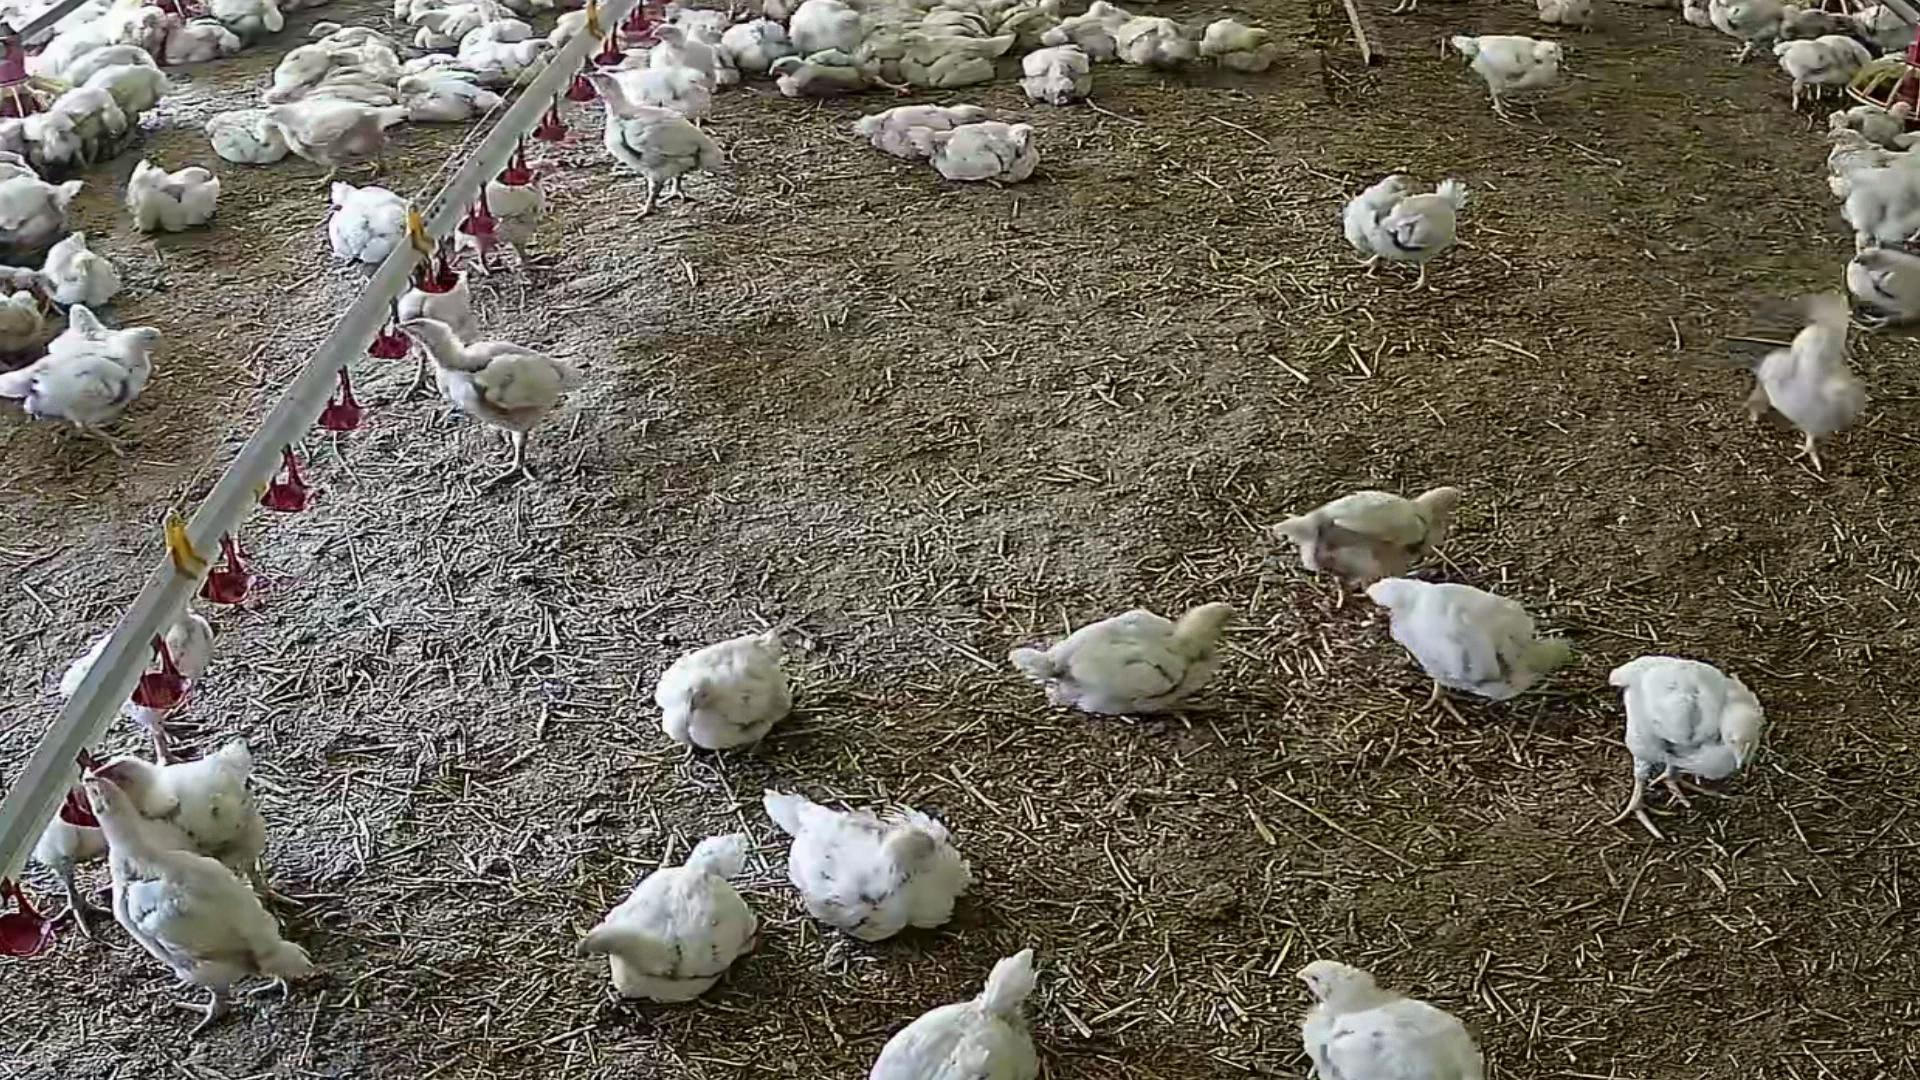poussin: (73, 775, 330, 1034), (762, 782, 967, 947), (397, 306, 563, 501), (102, 738, 293, 906), (1364, 572, 1575, 723), (579, 833, 757, 1005), (1602, 649, 1759, 843), (1013, 608, 1238, 729), (862, 948, 1044, 1080), (59, 603, 208, 762), (579, 69, 728, 222), (1273, 481, 1457, 603), (1298, 960, 1482, 1080), (1754, 302, 1873, 465), (651, 630, 790, 749), (33, 742, 116, 939), (33, 340, 160, 450), (451, 160, 550, 282), (1360, 182, 1458, 297), (400, 269, 476, 410), (1447, 33, 1568, 119), (266, 102, 404, 174), (906, 120, 1048, 187), (1832, 141, 1920, 249), (326, 174, 418, 277), (605, 55, 717, 131), (120, 165, 243, 233), (33, 235, 148, 306), (862, 98, 985, 158), (895, 33, 1015, 91), (1842, 247, 1920, 334), (186, 99, 282, 165), (767, 49, 877, 103), (1014, 38, 1097, 108), (642, 20, 721, 87), (40, 86, 131, 144), (872, 17, 980, 66), (0, 183, 79, 248), (1345, 170, 1393, 276), (1822, 124, 1902, 186), (1712, 0, 1787, 65), (47, 46, 170, 86), (1197, 20, 1283, 71), (158, 11, 243, 61), (720, 15, 786, 76), (63, 71, 170, 109), (1067, 9, 1142, 62), (400, 79, 505, 116), (462, 37, 553, 79), (273, 38, 334, 100), (59, 297, 123, 353), (208, 0, 287, 45), (790, 4, 869, 49), (1816, 42, 1870, 105), (1116, 21, 1187, 66), (40, 38, 123, 76), (0, 286, 50, 348), (1778, 36, 1818, 108), (927, 1, 990, 44), (409, 12, 483, 47), (1774, 7, 1855, 38), (549, 3, 599, 51), (1531, 0, 1602, 34), (1863, 98, 1909, 150), (463, 15, 537, 46), (305, 82, 397, 107), (306, 18, 394, 44), (324, 44, 402, 70), (992, 1, 1062, 29), (659, 5, 729, 30), (400, 66, 477, 84), (397, 51, 459, 73), (327, 69, 396, 84), (1828, 105, 1880, 125)
